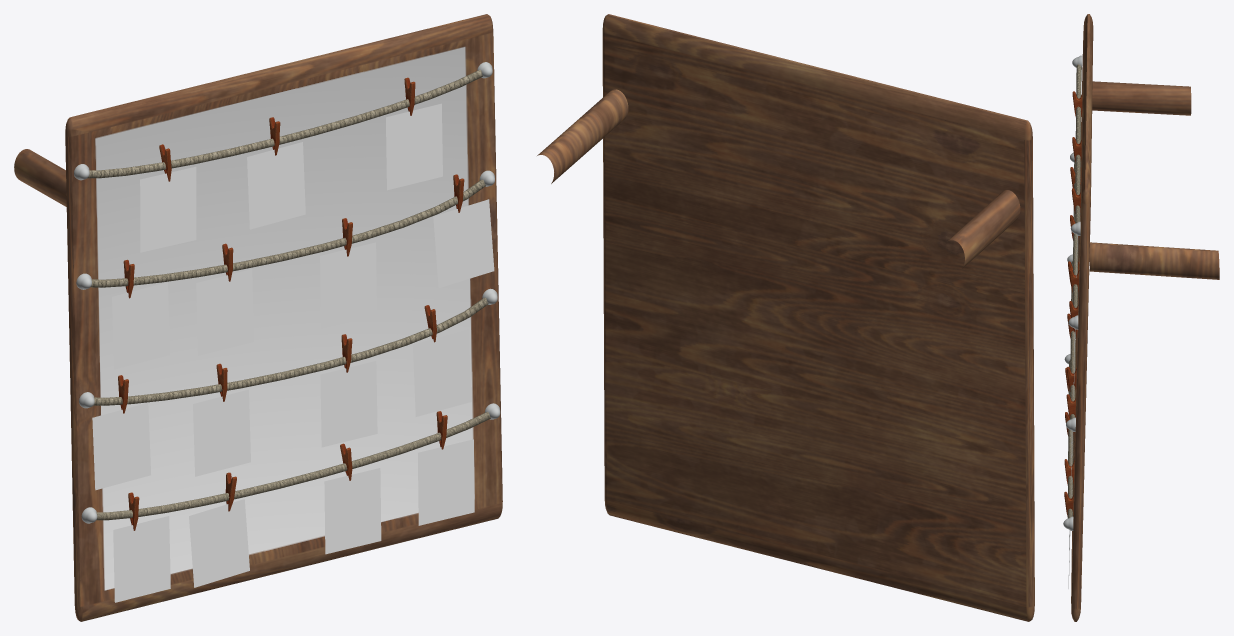
Rendered from preview.glb.
3 renders of one model, left to right at view 1: azimuth 30°, elevation 25°; view 2: azimuth 150°, elevation 25°; view 3: azimuth 270°, elevation 25°, orthographic. The views are drawn at different scales.
Parts seen in each view (by area): view 1: photoframe, photo.(out), photo.005, photo.007, photo.008, photo.009, photo.011, photo.012, photo.004, photo.006, photo.015, photo.003 (+5 smaller); view 2: photoframe; view 3: photoframe.
Boxes of the visible parts, x1,y1,x2,y2 form: photoframe: (14,14,502,621); photo.(out): (92,103,494,602); photo.005: (199,273,250,338); photo.007: (437,203,489,270); photo.008: (95,407,147,472); photo.009: (196,394,247,459); photo.011: (416,333,467,399); photo.012: (116,520,167,585); photo.004: (115,286,166,351); photo.006: (323,246,373,311); photo.015: (421,443,471,508); photo.003: (389,108,439,172); photoframe: (537,14,1034,621); photoframe: (1063,14,1219,621).
Bounding box in the file's own units: 0.6851 × 0.7674 × 0.2495.
Materials: 17 (2 with a texture image).
